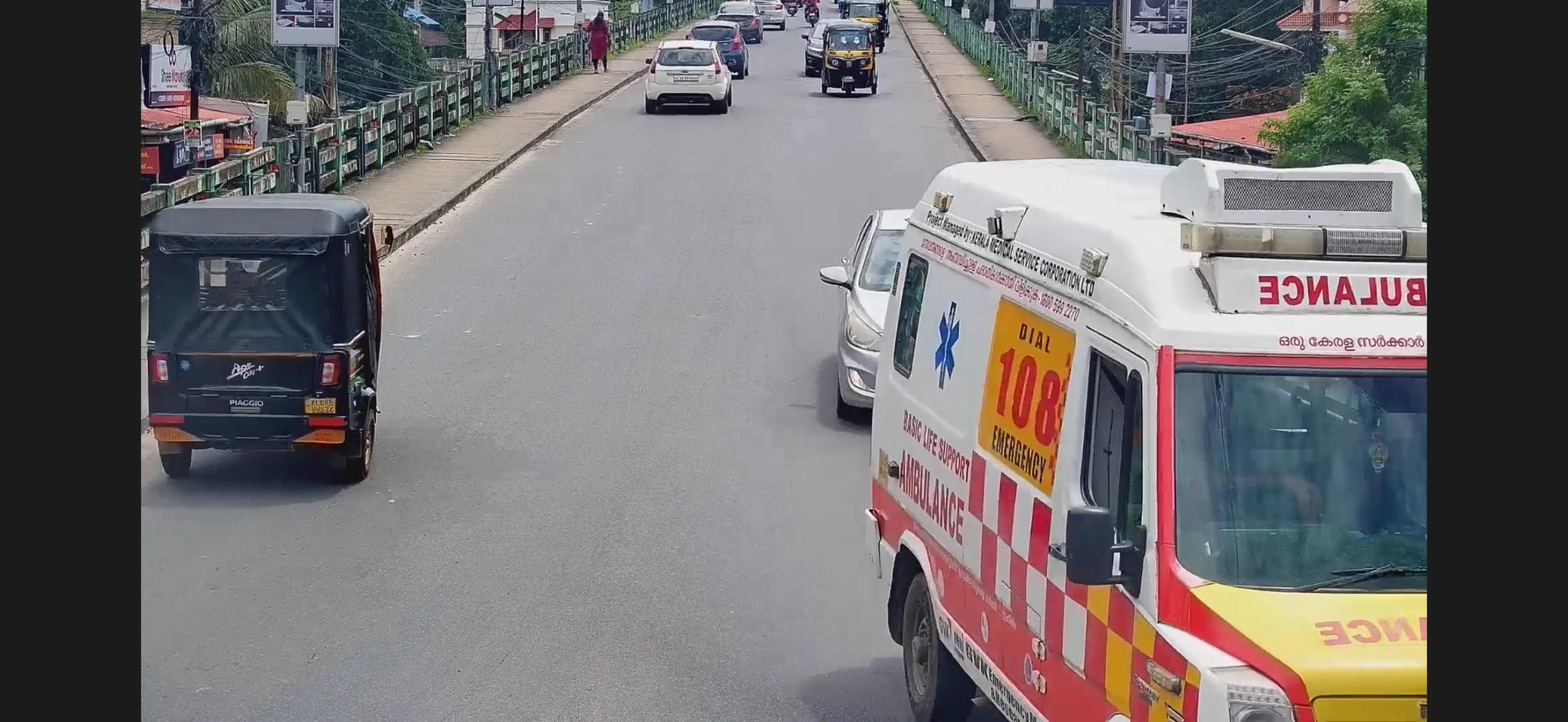ambulance: (873, 139, 1425, 721)
